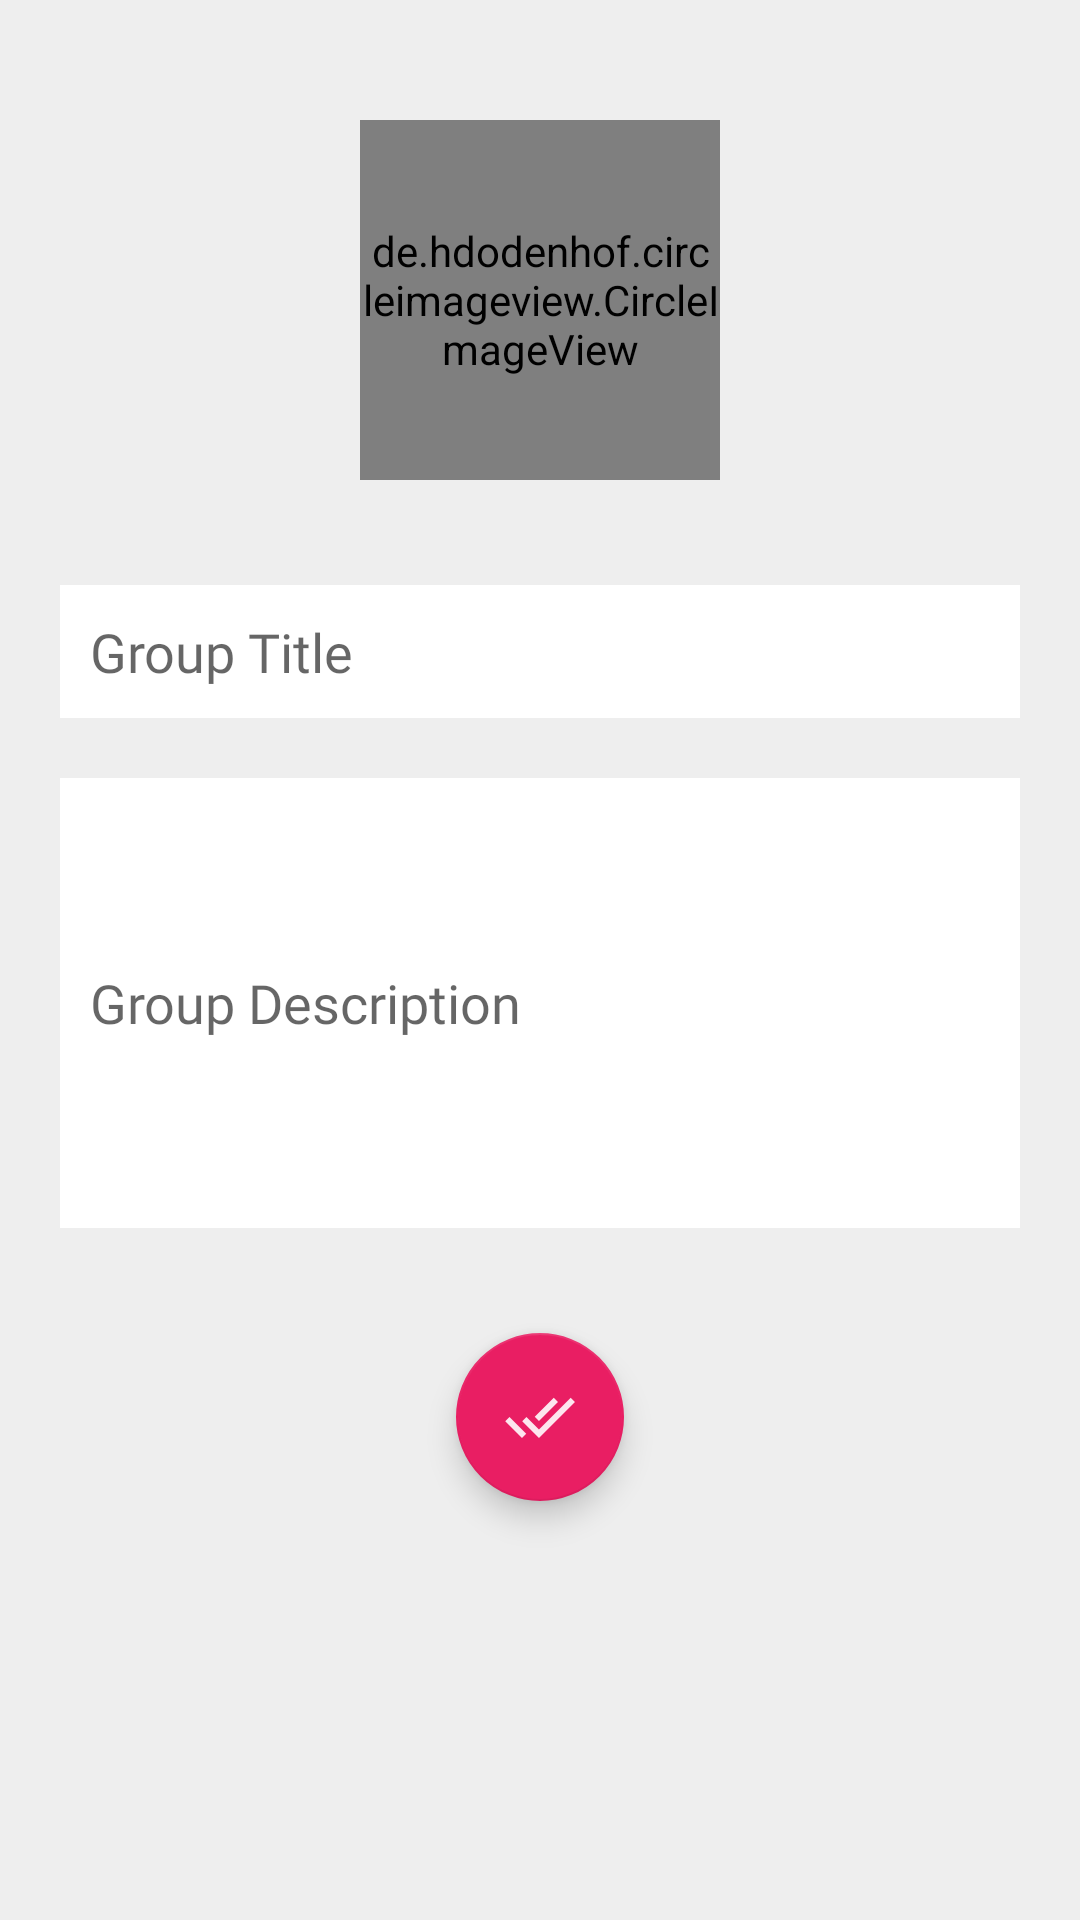

Screen size 1080*1920. Icon name, then its center in pixels as (x=x, y=y):
done all: (x=540, y=1417)
